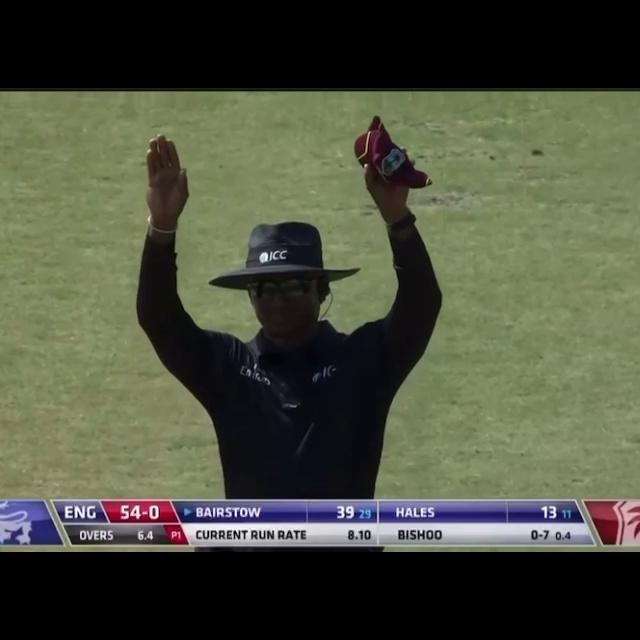umpire: (109, 98, 449, 500)
